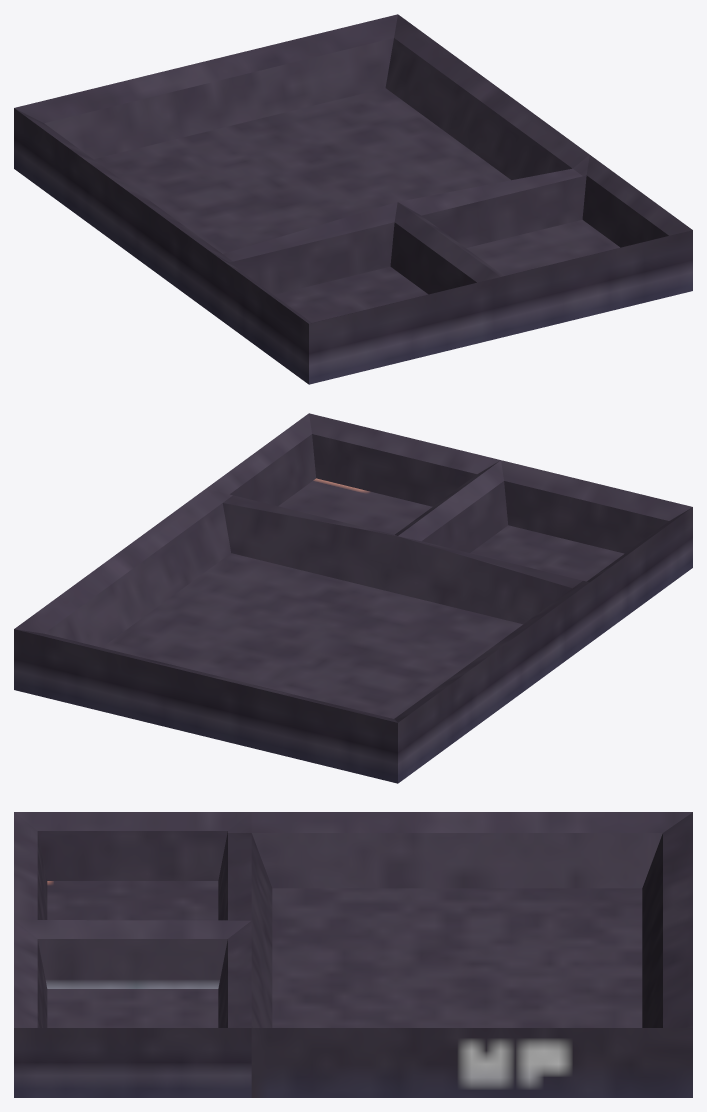
File: MealPrep_Cooked 1.fbx
3 views of the same model, one above another, from view 1: azimuth 30°, elevation 25°; view 2: azimuth 150°, elevation 25°; view 3: azimuth 270°, elevation 25° (orthographic). The views are drawn at different scales.
Visible parts, largest first — view 1: MealPrep_Box_Cooked; view 2: MealPrep_Box_Cooked; view 3: MealPrep_Box_Cooked.
Part boxes in pixels (bbox=[...]): MealPrep_Box_Cooked: bbox=[14, 14, 692, 384]; MealPrep_Box_Cooked: bbox=[14, 413, 692, 783]; MealPrep_Box_Cooked: bbox=[14, 812, 692, 1097].
Size of the model in its own units: 93.79 by 14.19 by 125.
